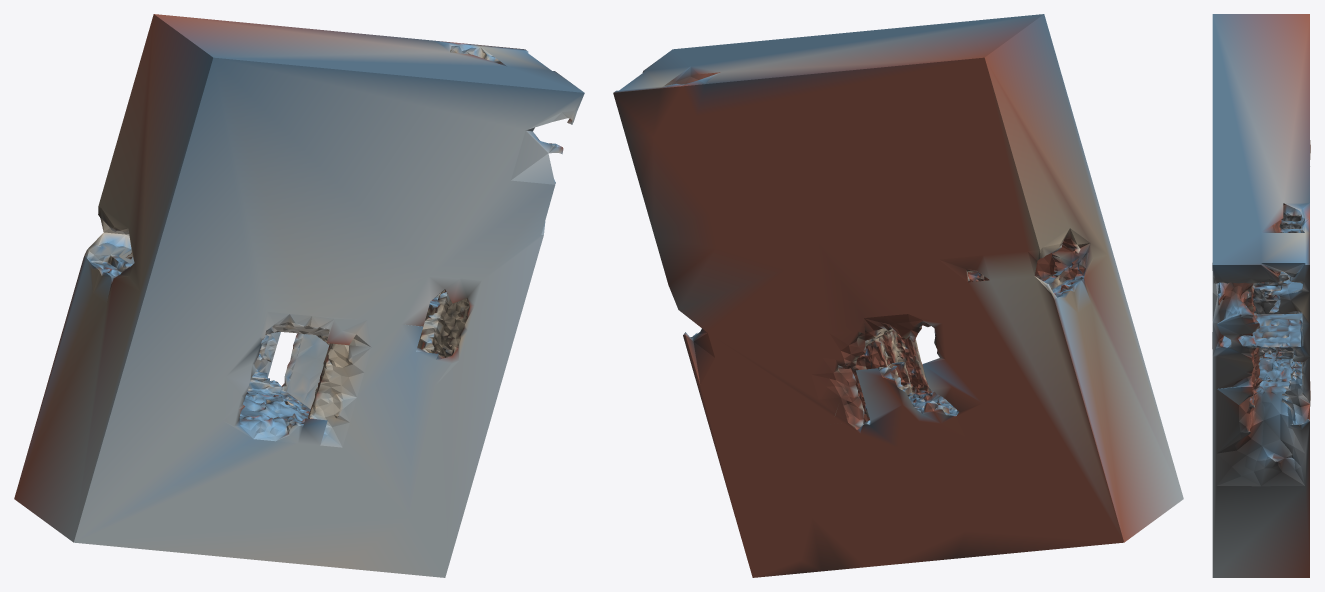
3 views of the same model, side by side, from view 1: azimuth 30°, elevation 25°; view 2: azimuth 150°, elevation 25°; view 3: azimuth 270°, elevation 25° (orthographic). The views are drawn at different scales.
Visible parts, largest first — view 1: node_0; view 2: node_0; view 3: node_0.
Boxes of the visible parts, <box> form: node_0: <box>14,14,584,577</box>; node_0: <box>613,14,1183,577</box>; node_0: <box>1212,14,1310,577</box>.
Size of the model in its own units: 29.68 by 32.02 by 6.06.
